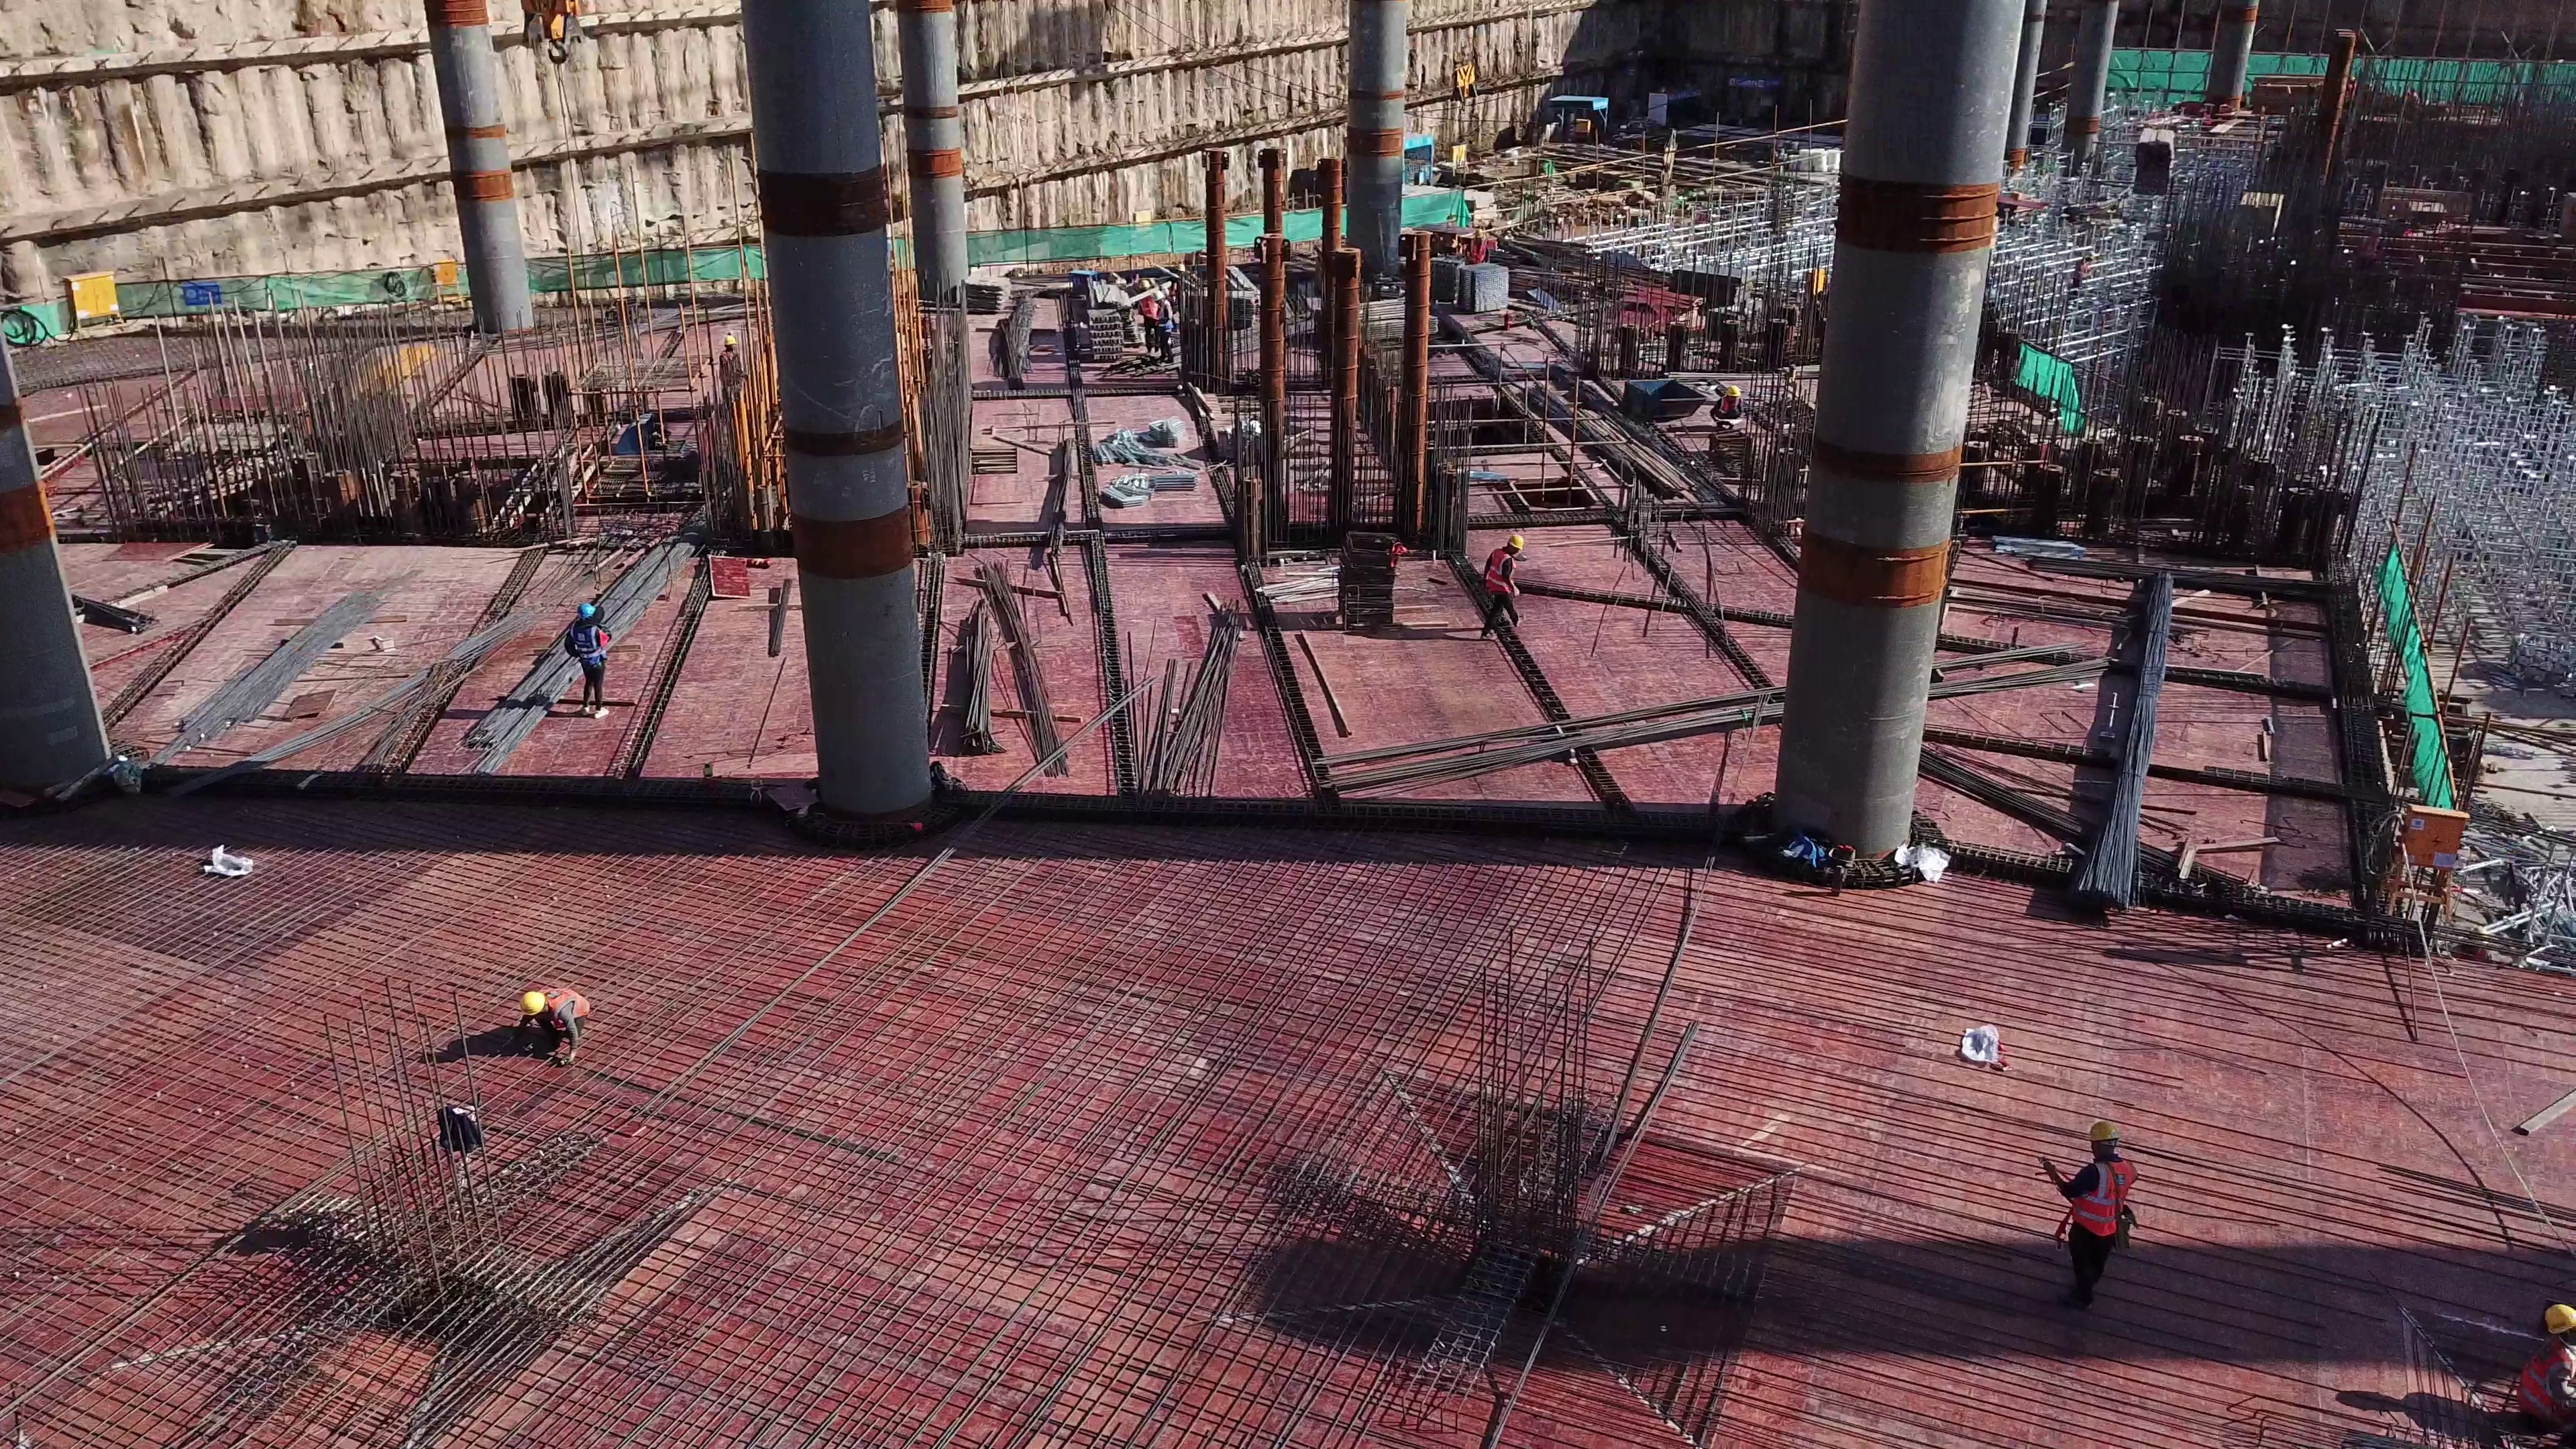board: (709, 552, 751, 603)
ebox: (2363, 795, 2463, 955), (54, 272, 125, 330)
helmet: (2544, 1301, 2576, 1328), (515, 993, 548, 1020), (2087, 1117, 2115, 1138), (572, 601, 595, 621), (1508, 535, 1529, 551), (1725, 385, 1741, 402), (1472, 227, 1485, 240), (1139, 280, 1149, 290), (1155, 290, 1165, 300)
hook: (516, 1, 588, 61), (1448, 56, 1479, 104)
person: (2041, 1120, 2129, 1304), (506, 984, 599, 1070), (1468, 536, 1529, 645), (568, 594, 619, 708), (1152, 290, 1178, 370), (720, 331, 743, 403), (1139, 272, 1160, 346)
rebar: (1345, 686, 1794, 804), (2080, 573, 2167, 918), (934, 580, 1067, 788), (1120, 606, 1233, 802), (984, 299, 1047, 393), (1044, 435, 1079, 571)
scaffold: (1095, 420, 1189, 502), (1449, 262, 1509, 308)
vest: (2066, 1151, 2140, 1240), (2514, 1341, 2573, 1405), (546, 988, 594, 1028), (1489, 550, 1520, 596), (572, 627, 603, 665), (1153, 302, 1172, 331), (1139, 299, 1157, 320)
